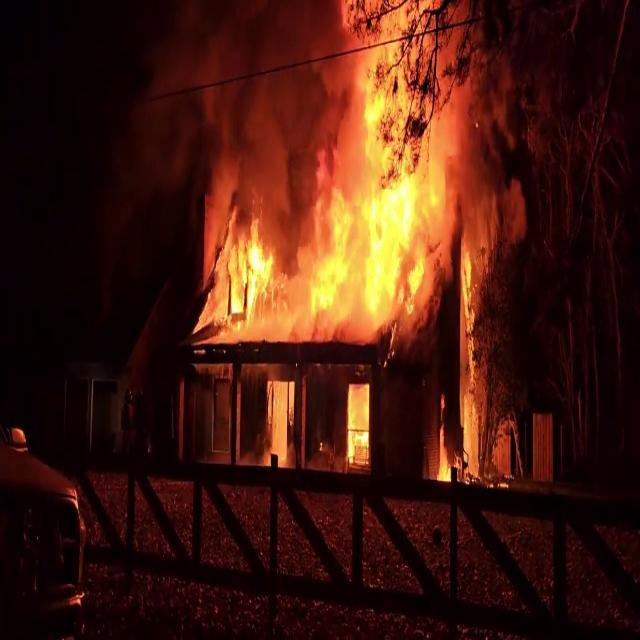Fire: (344, 48, 456, 330), (195, 180, 334, 342), (456, 230, 489, 487), (346, 382, 370, 472)
Smoke: (118, 0, 326, 241)
